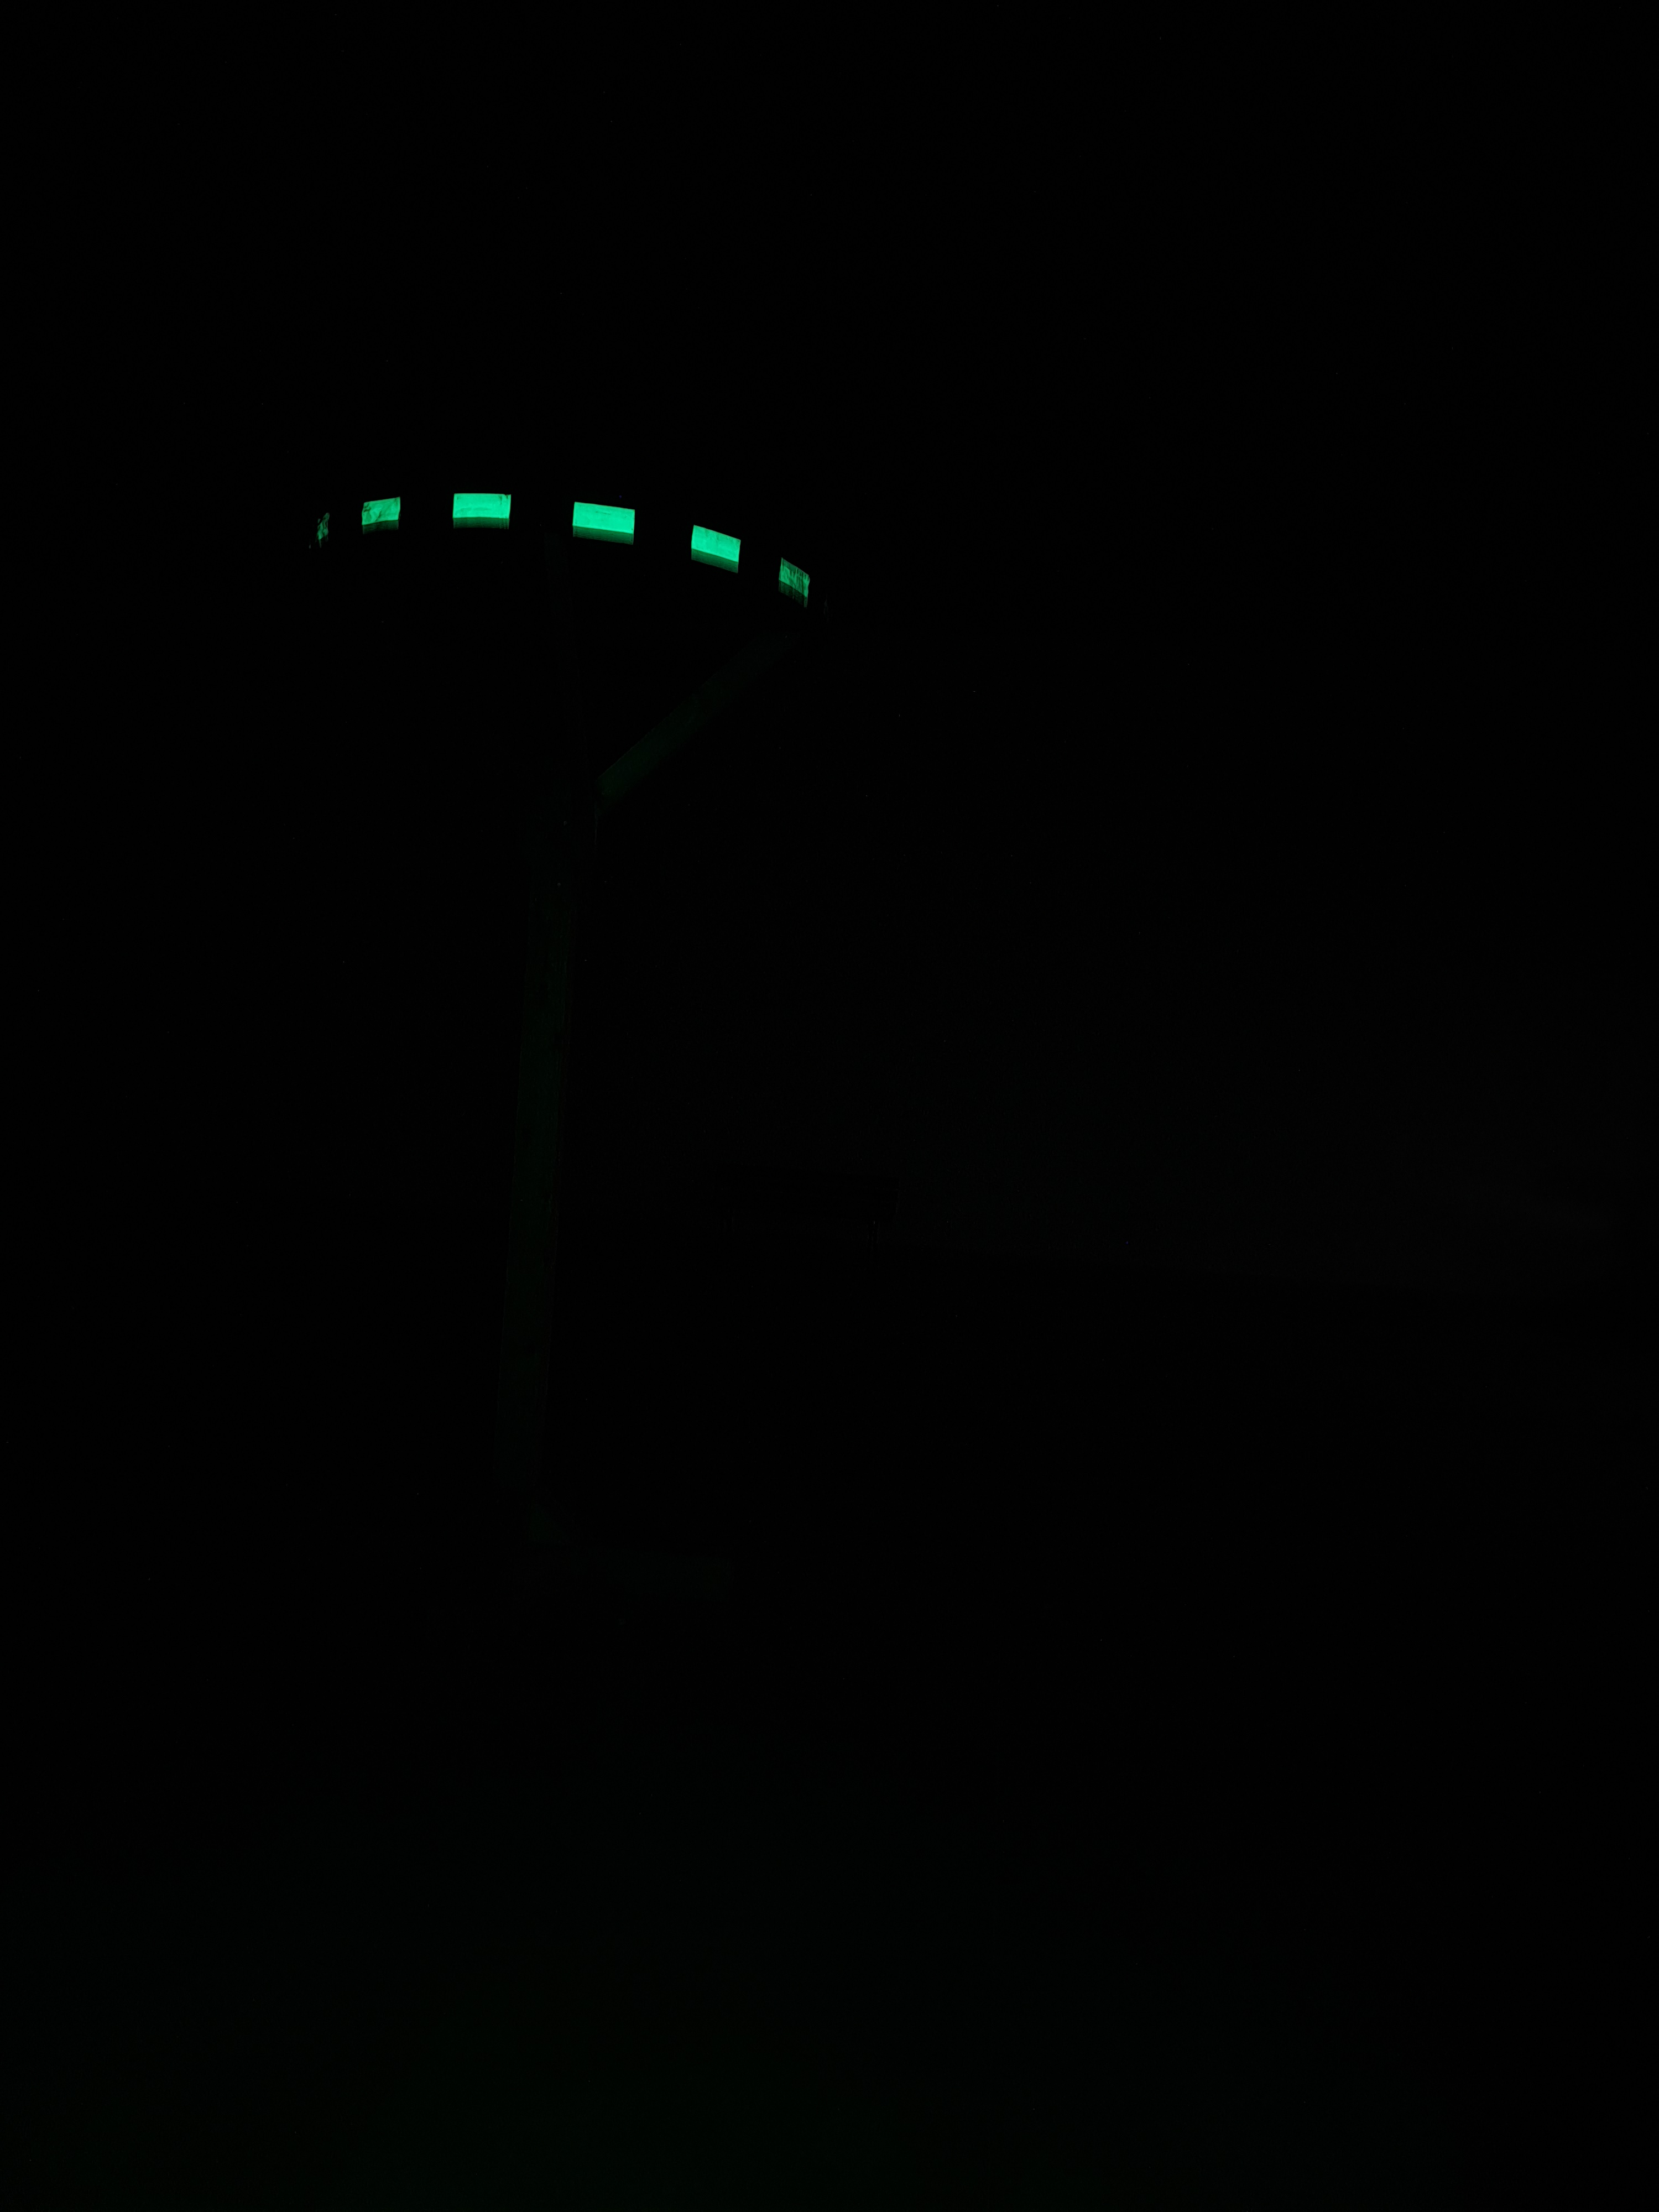hoop: (307, 484, 814, 608)
